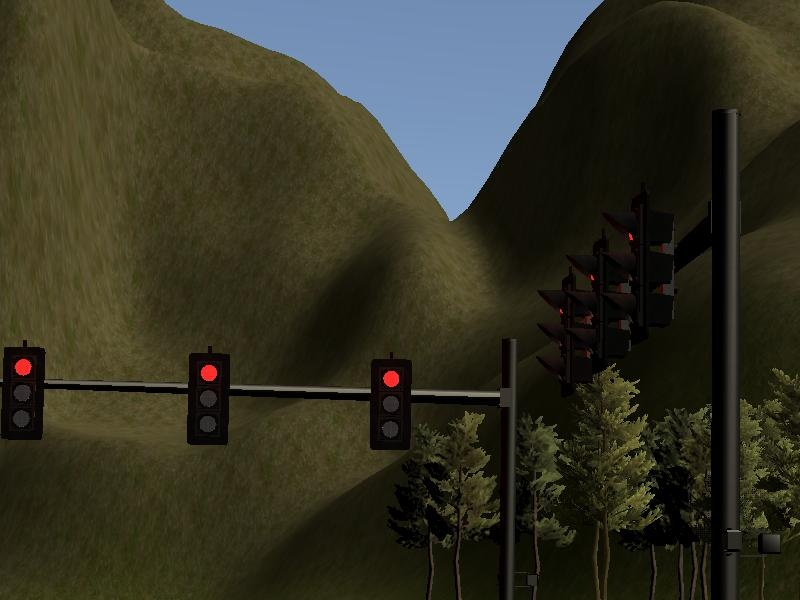RED: (370, 359, 413, 452), (186, 350, 229, 443), (1, 346, 44, 439)
